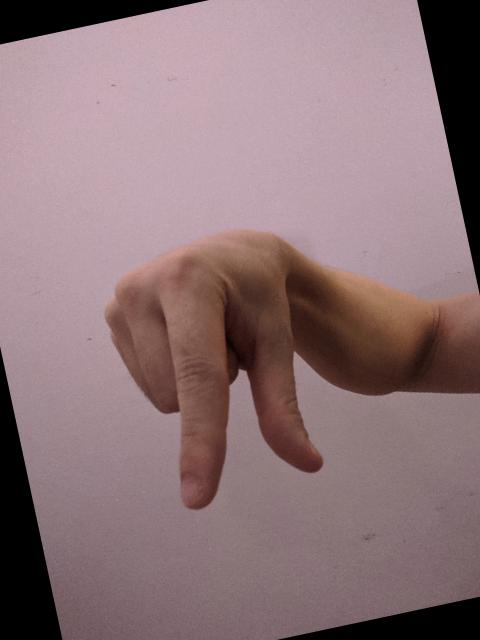Q: (82, 212, 338, 532)
